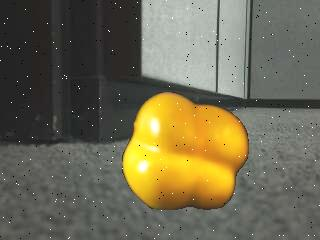Capsicum: (121, 92, 248, 211)
